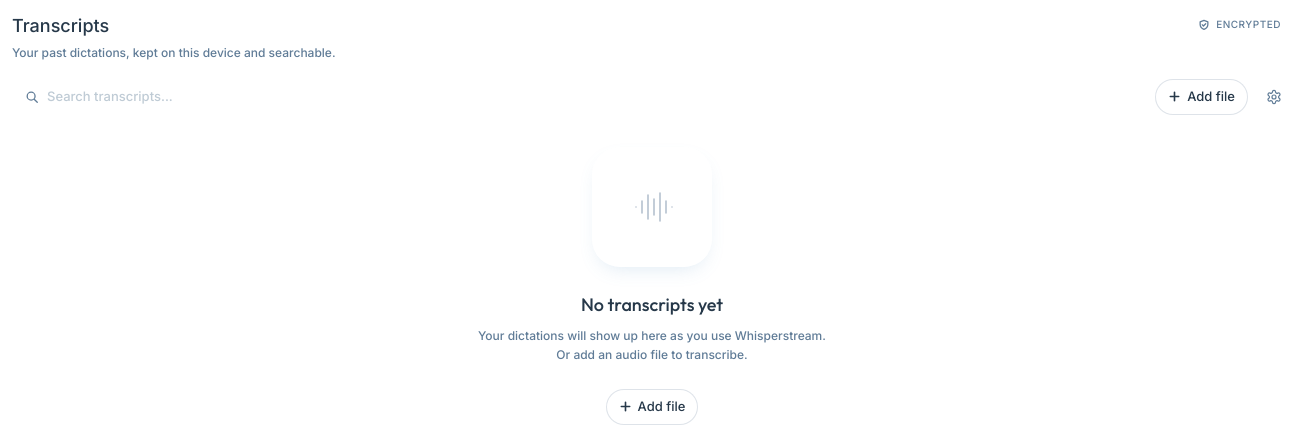
Test: Recovery settings in the gear menu › is absent without a confirmed key
Click the button named "Transcript settings": click(1274, 96) [1256,78,1292,114]
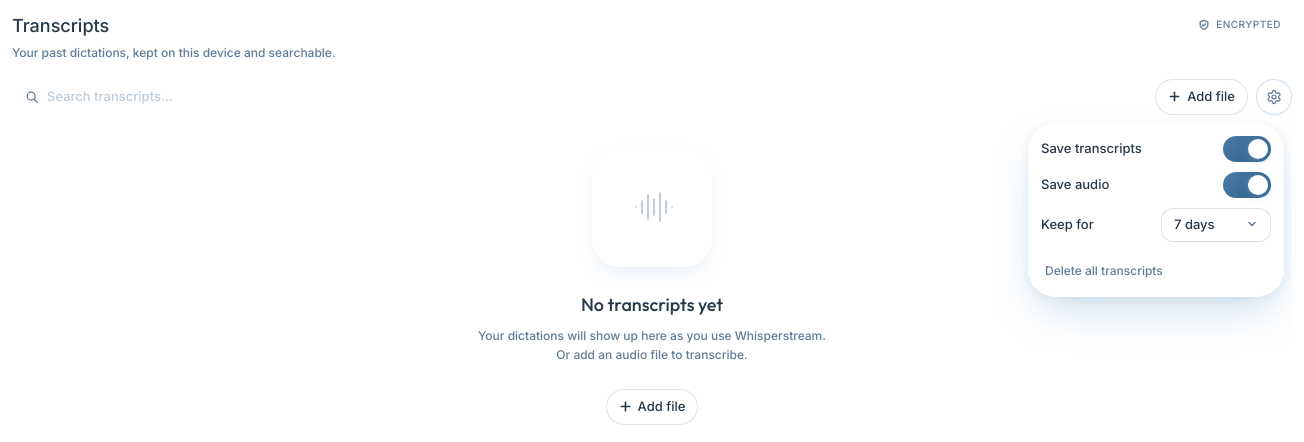
Result: the menu named "Transcript settings" is shown at [1028,122,1284,296]
